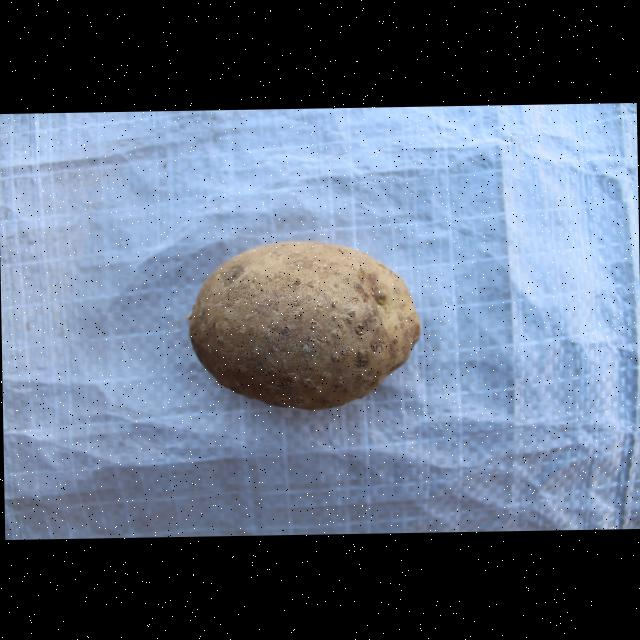Diseased-fungal potato: (185, 238, 423, 410)
